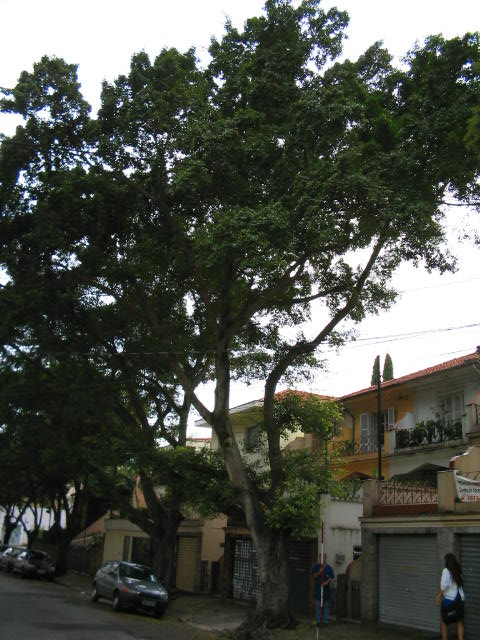crown: (5, 4, 477, 381)
stem: (243, 538, 301, 630)
stick: (314, 517, 326, 628)
tree: (3, 3, 477, 631)
